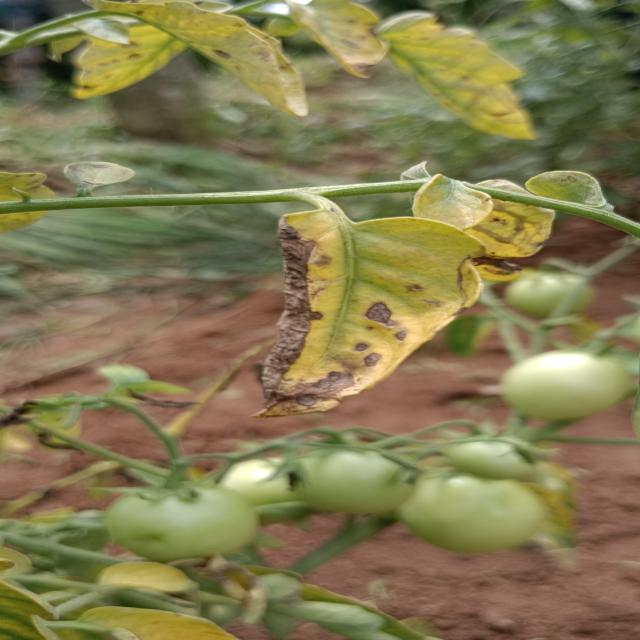tomato_early blight: (255, 196, 483, 417), (74, 0, 320, 124), (365, 9, 562, 136), (67, 4, 258, 100), (398, 184, 568, 285), (300, 0, 414, 63)
